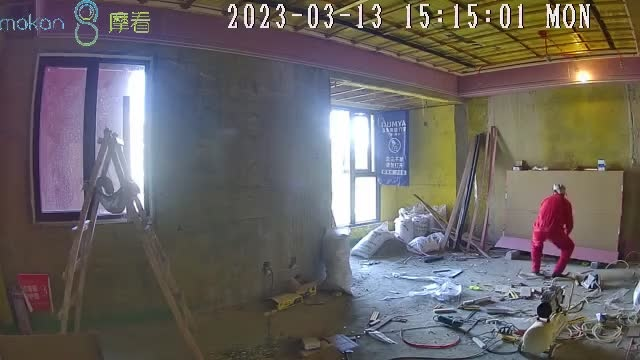people: (532, 184, 575, 278)
window: (37, 59, 148, 216), (330, 106, 409, 228)
